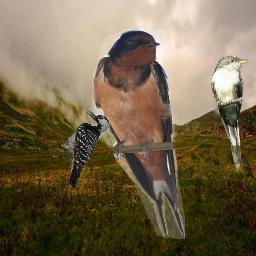Cuckoo: (211, 55, 249, 171)
Swallow: (92, 29, 185, 239)
Woodpecker: (61, 110, 110, 190)
